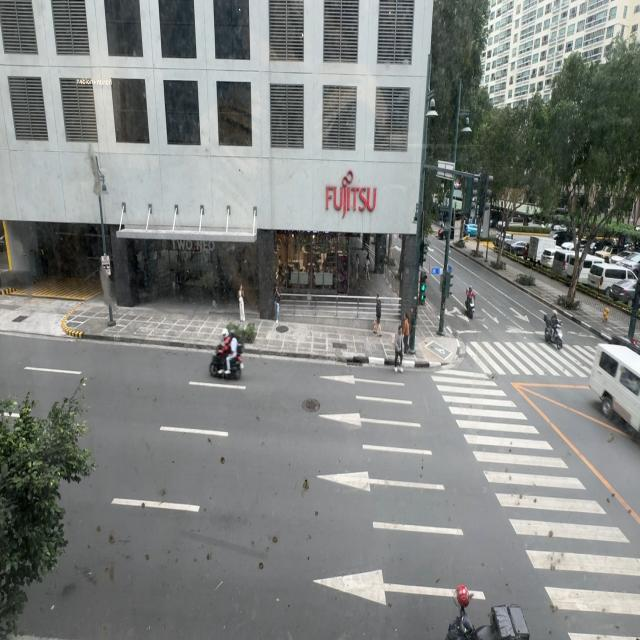jaywalking: (393, 325, 405, 371)
pedestrain: (373, 296, 388, 340), (273, 281, 281, 324), (402, 312, 409, 353), (238, 285, 245, 324)
